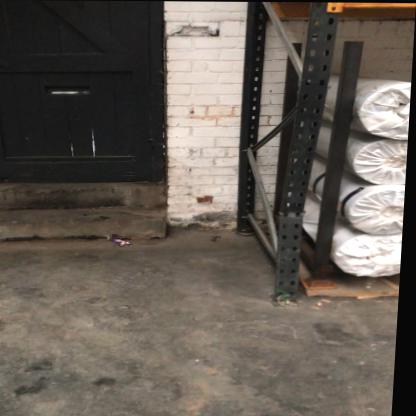vertical_damage: (269, 183, 324, 233)
